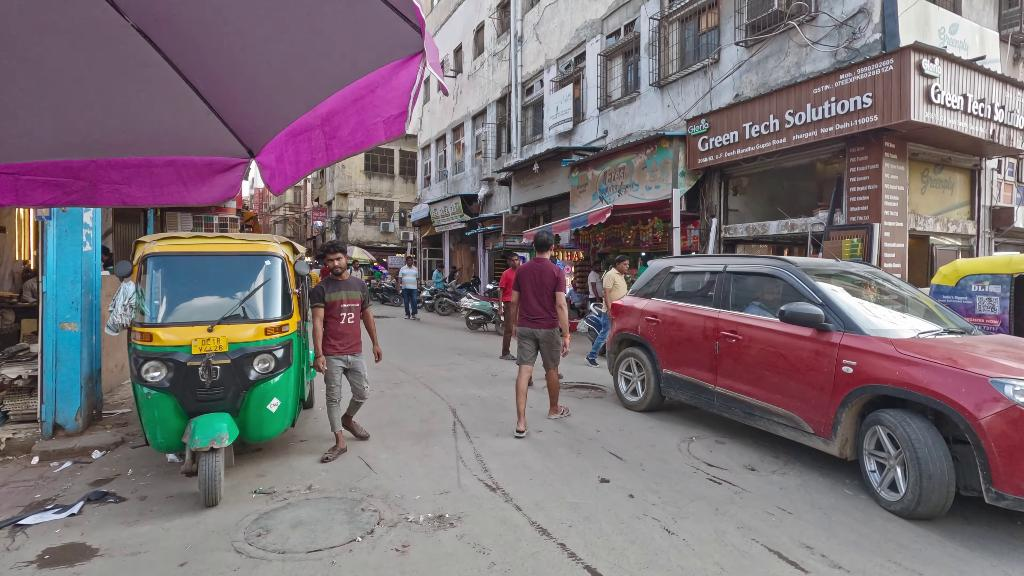garbage: (3, 492, 125, 533)
